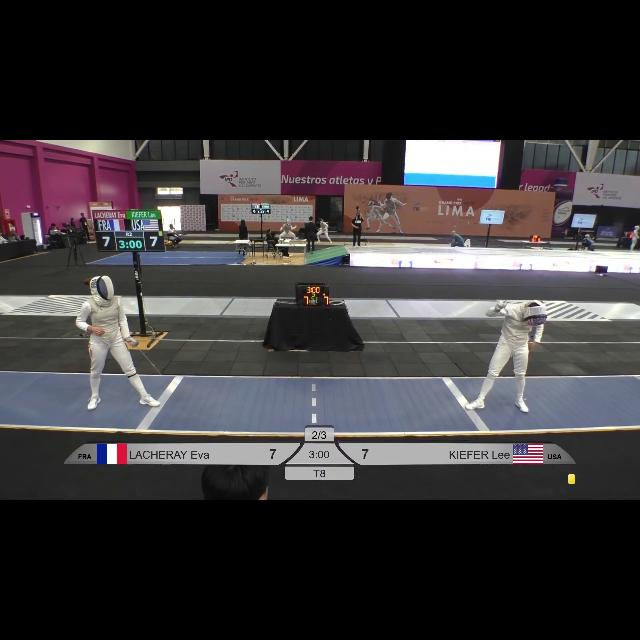blade: (130, 338, 166, 379)
